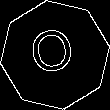O_S: (29, 27, 81, 83)
